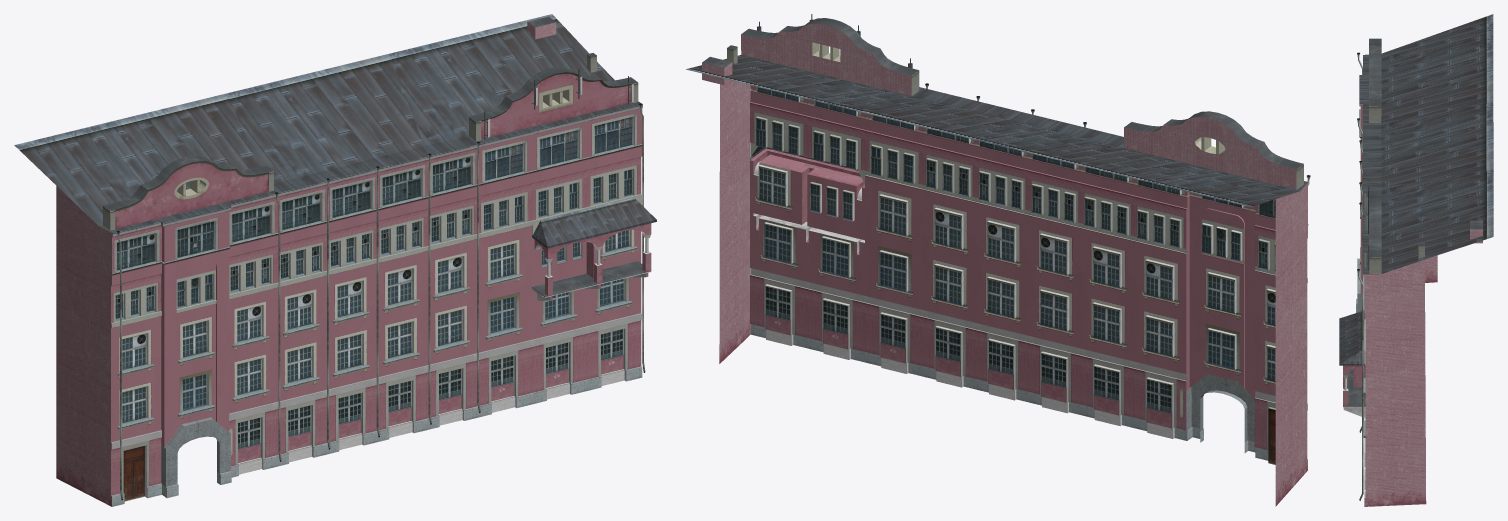
Rendered from streetHouse3.fbx.
The picture shows the model from 3 angles, left to right: view 1: azimuth 30°, elevation 25°; view 2: azimuth 150°, elevation 25°; view 3: azimuth 270°, elevation 25°; orthographic projection. The views are drawn at different scales.
Parts seen in each view (by area): view 1: pasted__House_4_lod_0; view 2: pasted__House_4_lod_0; view 3: pasted__House_4_lod_0.
Boxes of the visible parts, <box> form: pasted__House_4_lod_0: <box>14,14,656,506</box>; pasted__House_4_lod_0: <box>686,14,1310,506</box>; pasted__House_4_lod_0: <box>1339,14,1493,506</box>.
Bounding box in the file's own units: 39.96 × 22.25 × 11.36.
